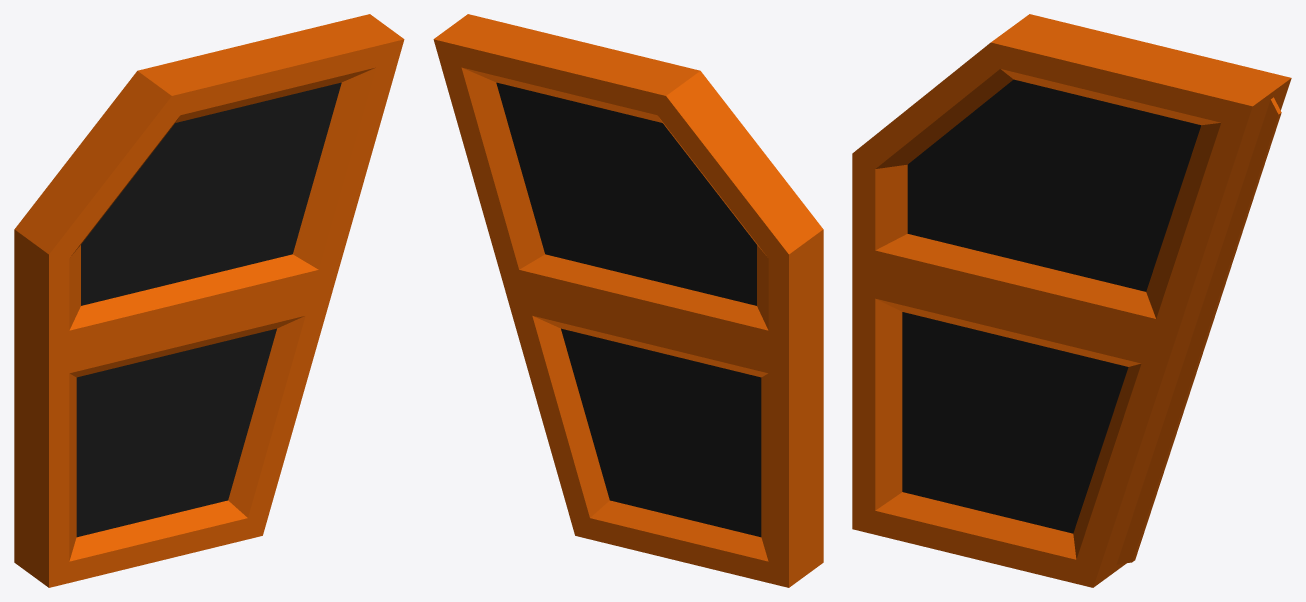
File: door_r.fbx
The picture shows the model from 3 angles, left to right: view 1: azimuth 30°, elevation 25°; view 2: azimuth 150°, elevation 25°; view 3: azimuth 330°, elevation 25°; orthographic projection. The views are drawn at different scales.
Parts seen in each view (by area): view 1: door_r; view 2: door_r; view 3: door_r.
Part boxes in pixels (x1=…): door_r: x1=14, y1=14, x2=404, y2=587; door_r: x1=433, y1=14, x2=823, y2=587; door_r: x1=852, y1=14, x2=1291, y2=587.
Size of the model in its own units: 348 by 426 by 57.77.
